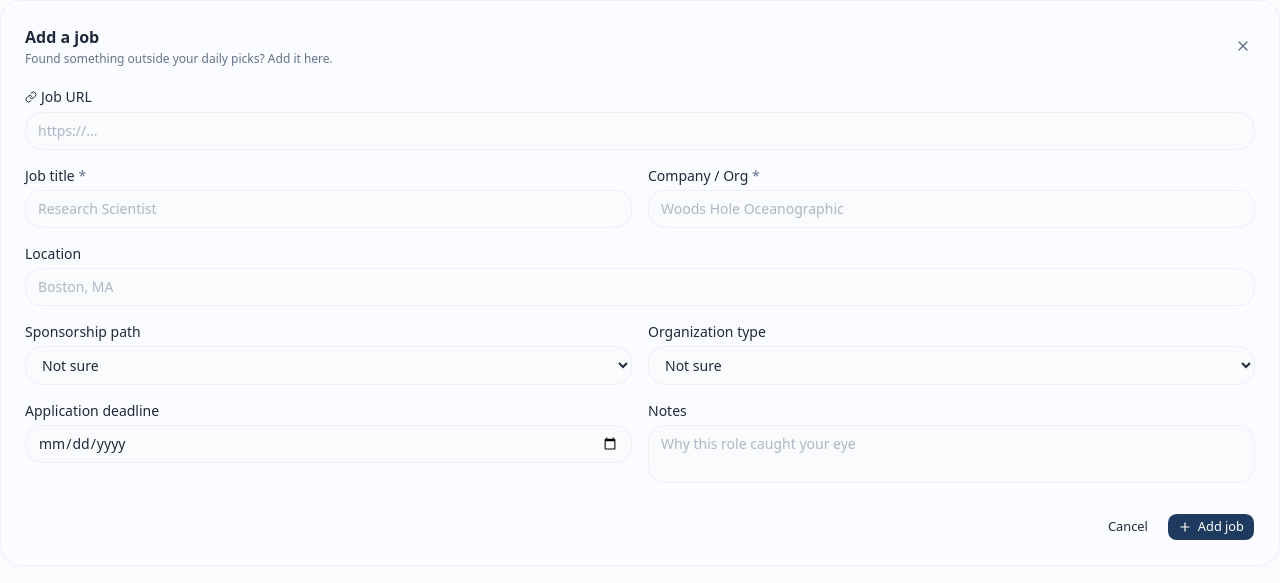
AddJobForm › shows Look it up button when URL is entered and title is empty
Type "https://whoi.edu/jobs/123" into the field labelled "Job URL".
click(640, 131); type("https://whoi.edu/jobs/123")  # box [25,112,1255,150]
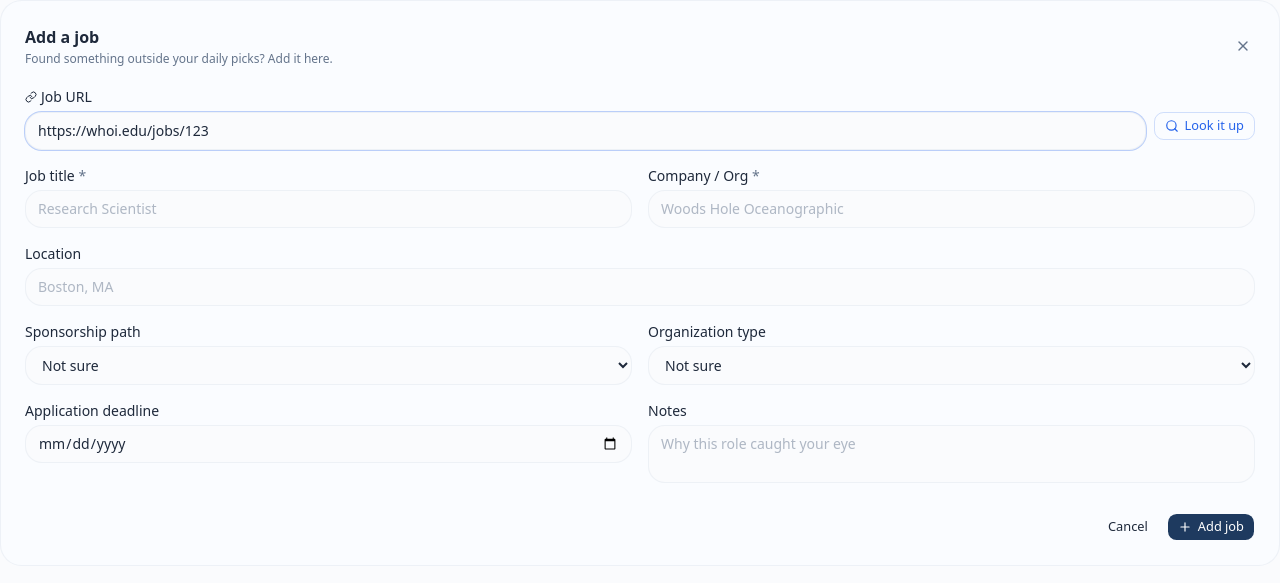
expect the button with aria-label "look up job details" is shown: met, box [1154,112,1255,140]
